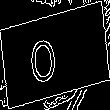O_N: (40, 26, 70, 84)
